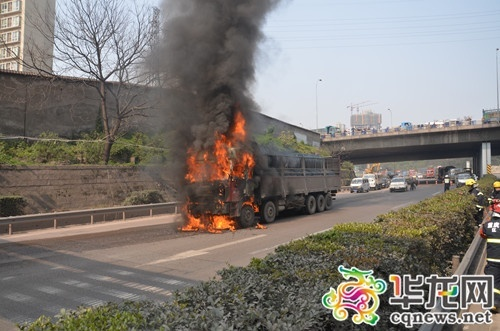fire: (177, 110, 263, 236)
